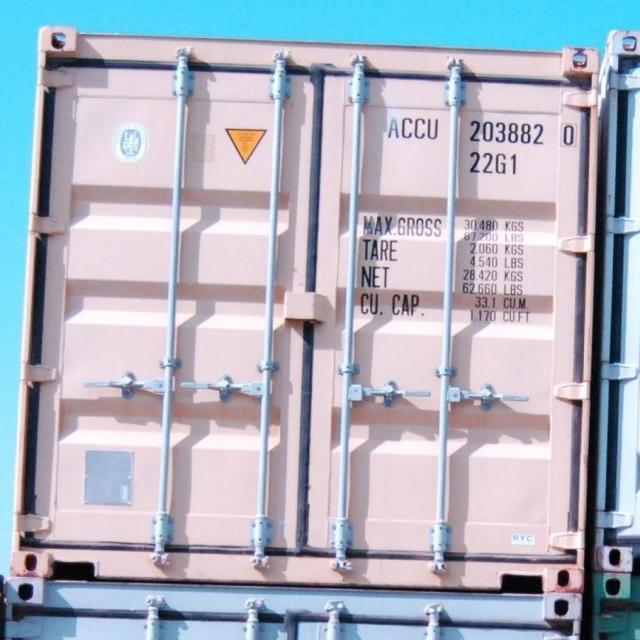ISO: (470, 152, 522, 176)
container_number: (388, 118, 573, 144)
